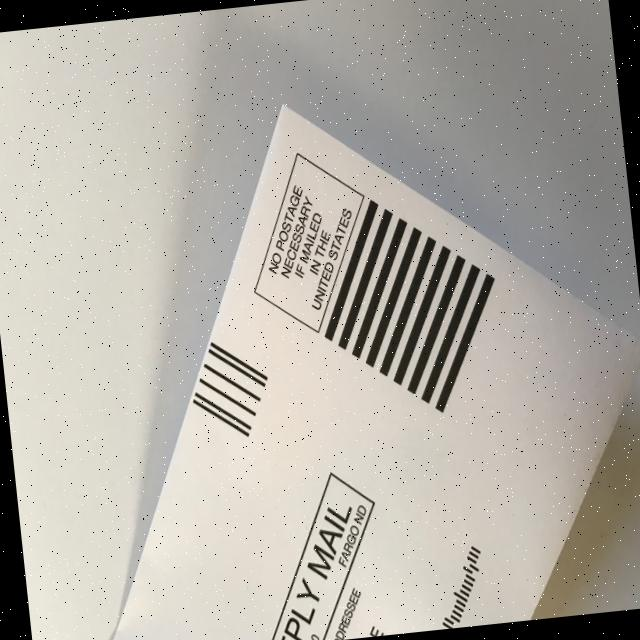paper: (45, 67, 640, 640)
